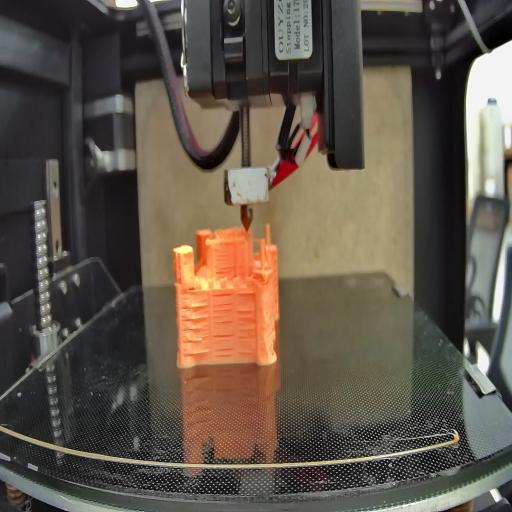cracks: (182, 304, 209, 354), (234, 306, 258, 356), (210, 292, 233, 328), (212, 333, 236, 361), (212, 262, 234, 280), (186, 282, 200, 294), (238, 290, 256, 298)
